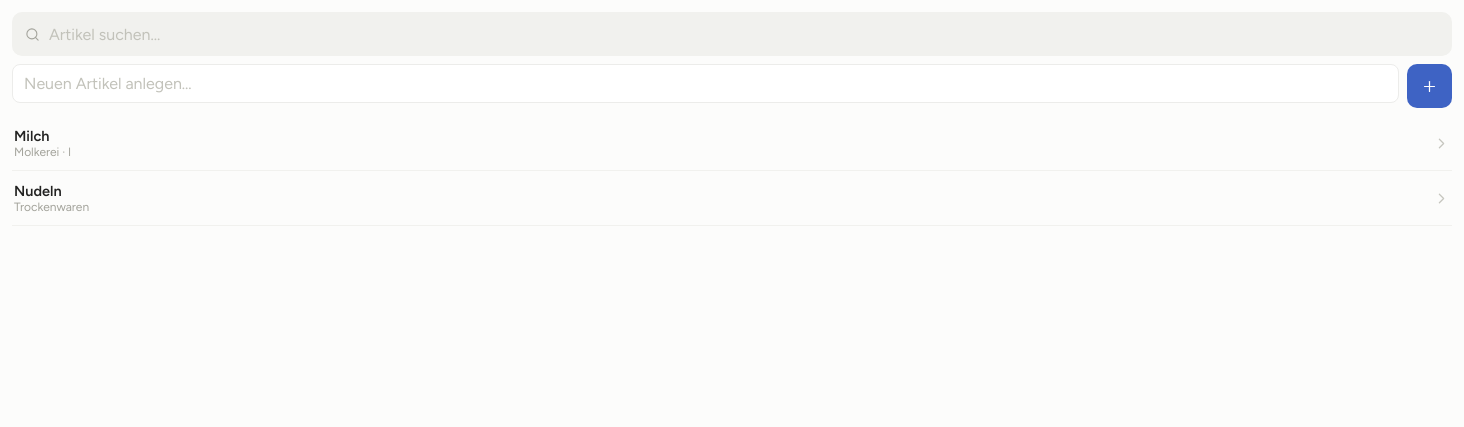
Test: CatalogBrowser › opens the panel of a freshly created article
This screenshot has width=1464, height=427.
Type "Nudeln" into the field labelled "Neuen Artikel anlegen". click: (706, 84)
box: 12,64 -> 1399,103
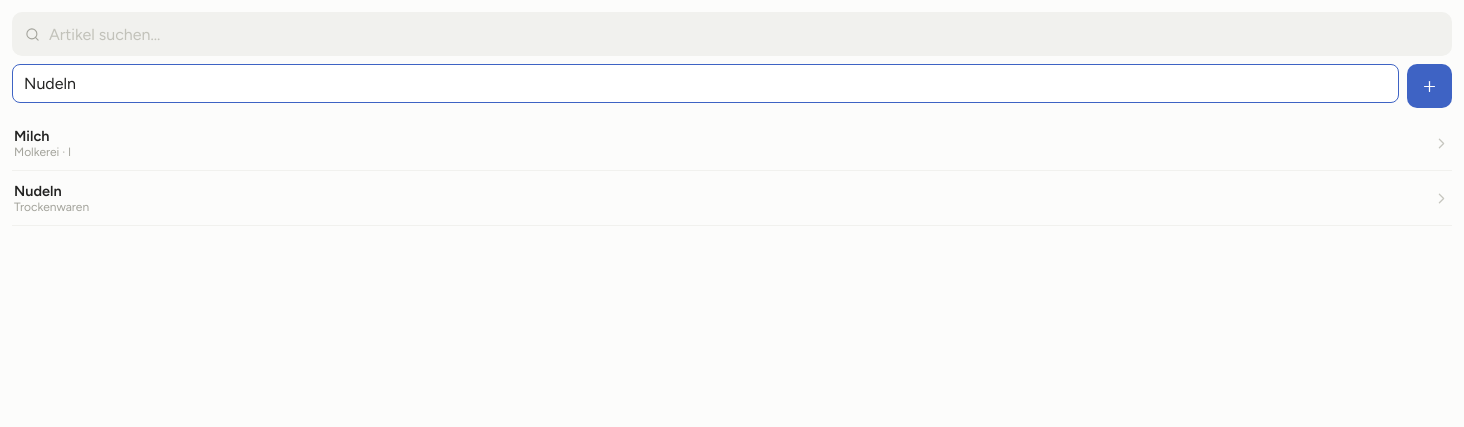
Click the button named "Artikel anlegen". click: (1430, 86)
box: 1407,64 -> 1452,108
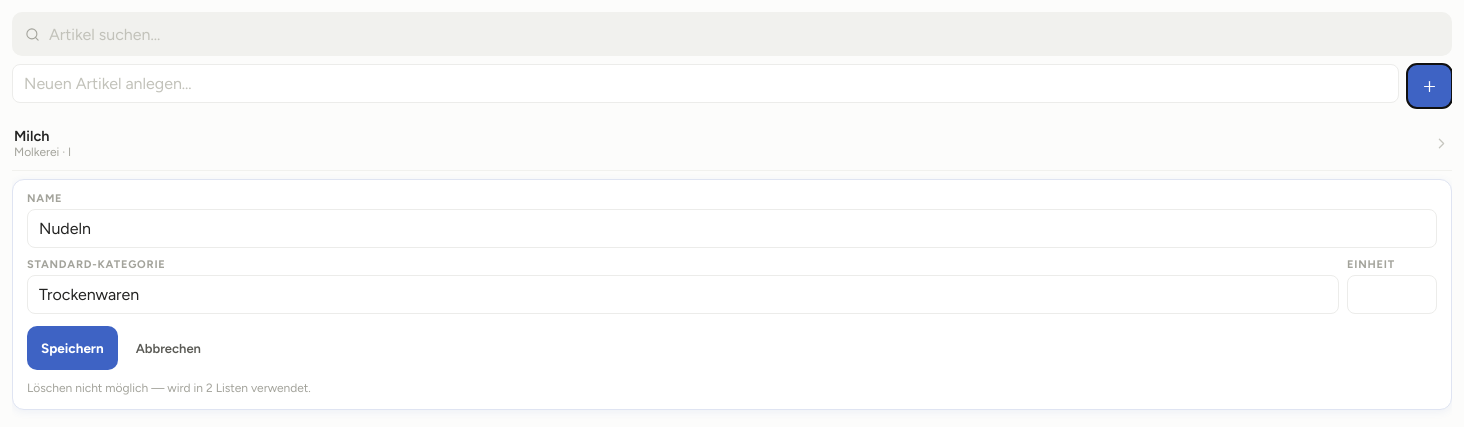
expect the button "Speichern" is shown: met, box 27,326 -> 118,370
